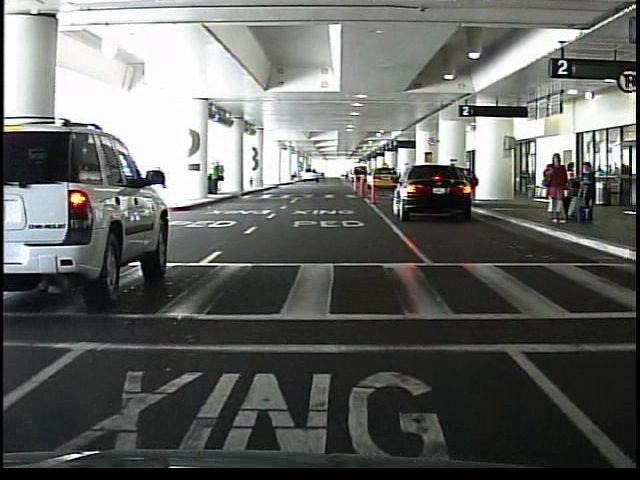person: (539, 153, 570, 225), (576, 162, 598, 227), (209, 161, 222, 198), (565, 162, 576, 200), (221, 164, 222, 196)
